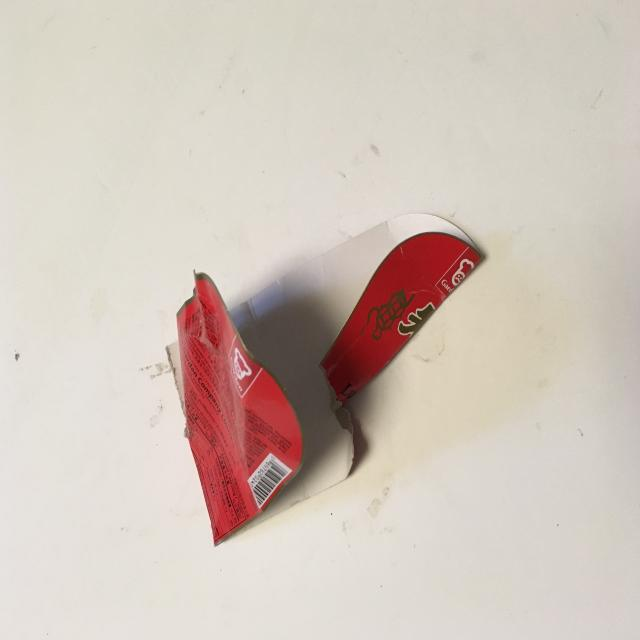paper: (137, 160, 500, 573)
